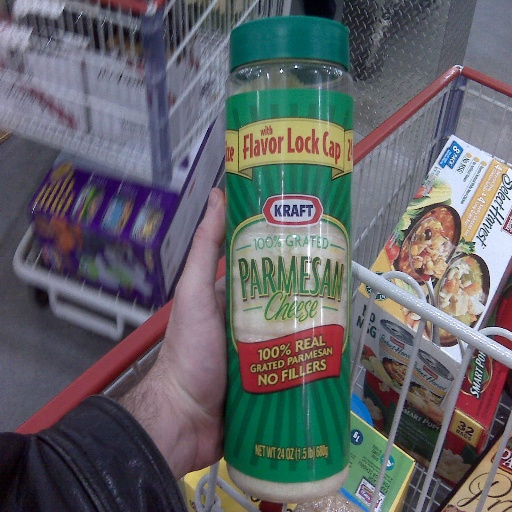hand: (125, 157, 231, 498)
